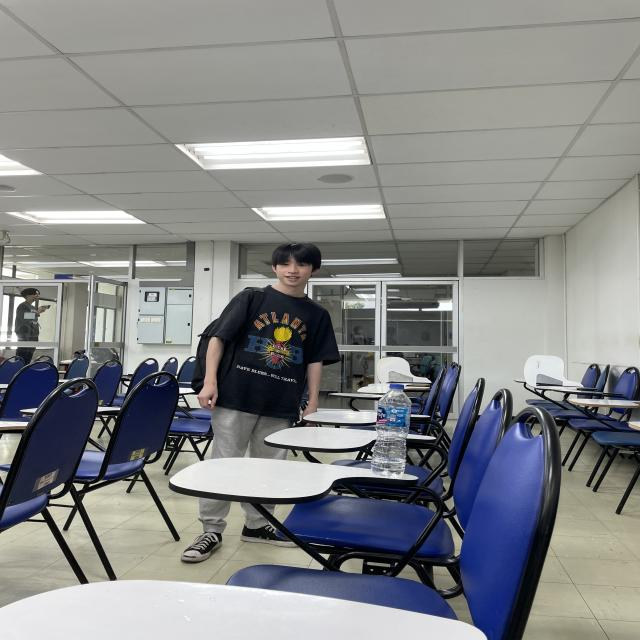bottle: (371, 383, 412, 477)
